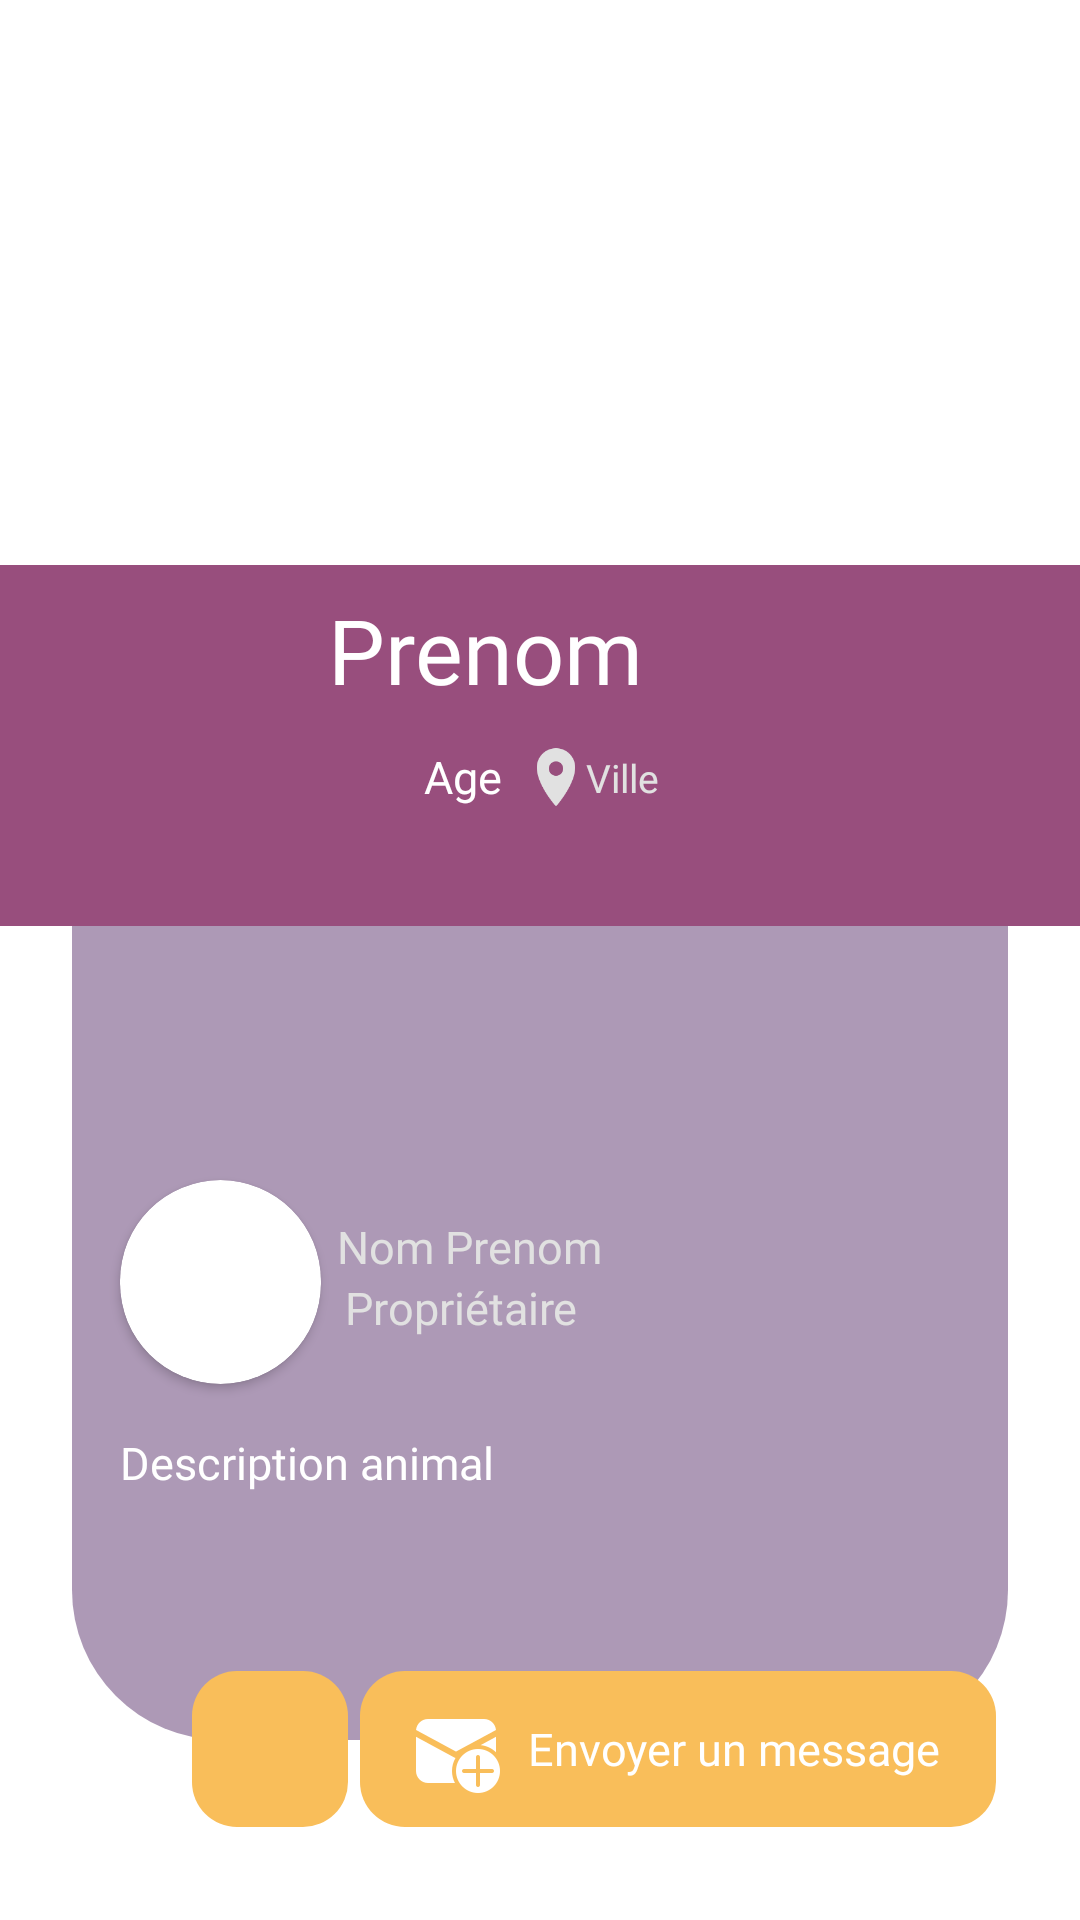

Icon click points for this 1080w x 1920h phone screenshot, format (x=x, y=y):
marqueur gris: (x=556, y=777)
